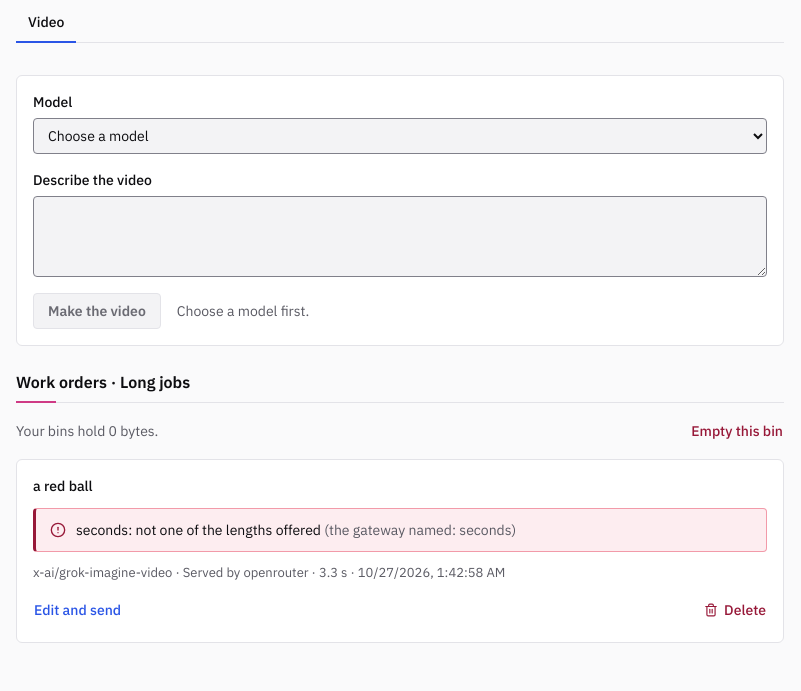
a form that a refusal came back to › begins the alert with the field's own label, and marks the field with the alert as its description
This screenshot has width=801, height=691.
(page scrolled)
Click the button "Edit and send" at (78, 610), box [25,594,130,626]
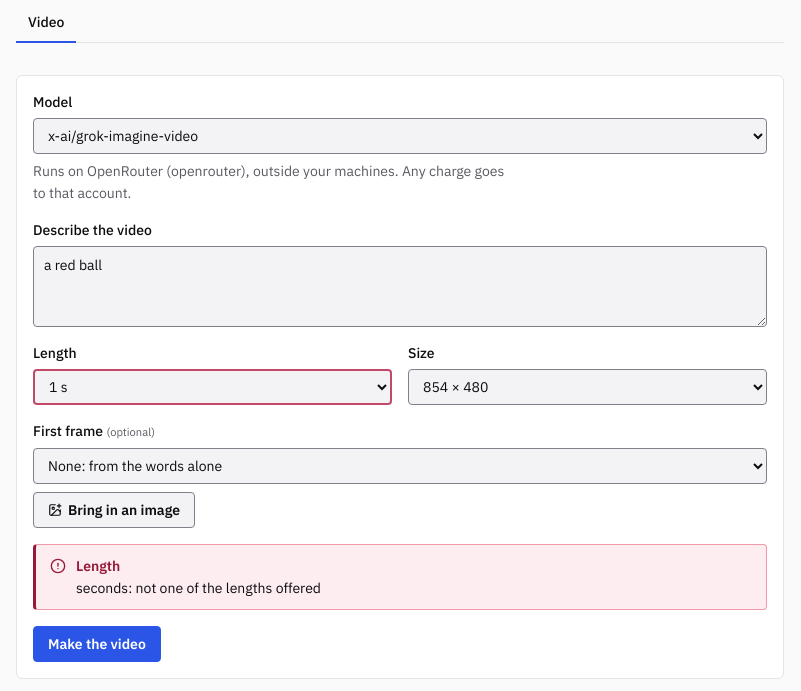
Expected: the message with test id "video-problem" shows "Length", [76,557,120,575]
